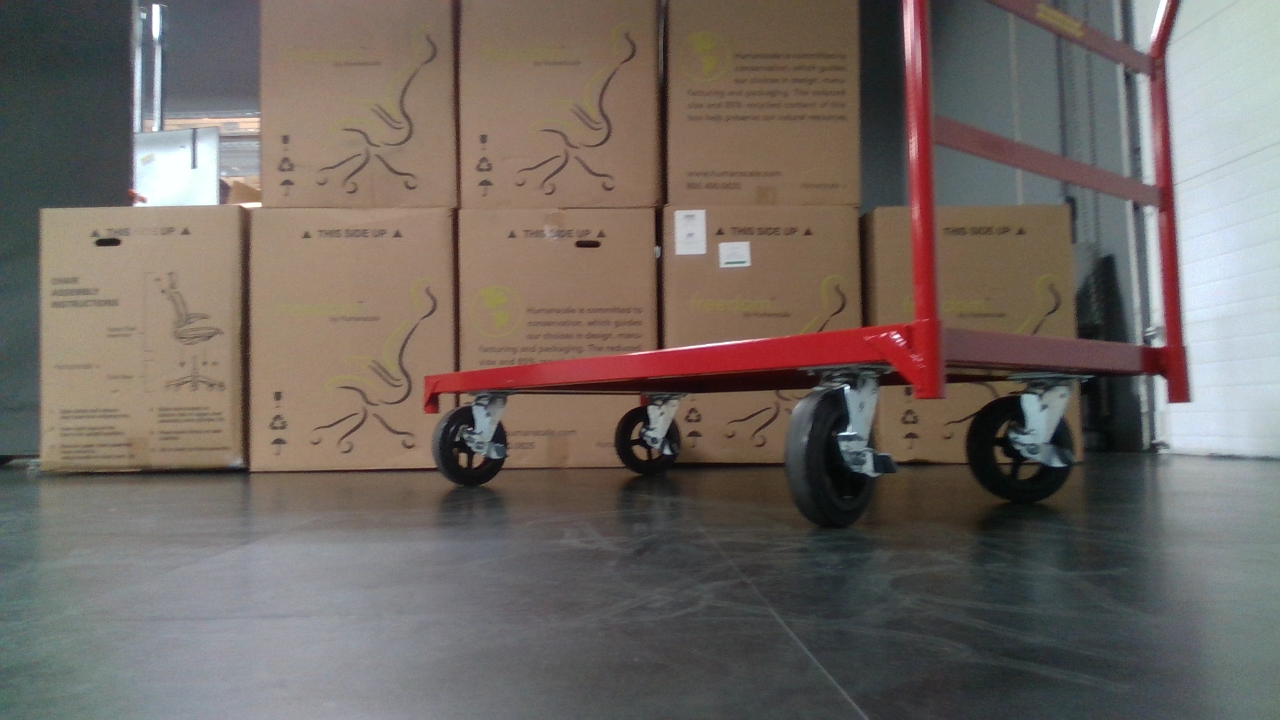Dolly: (422, 0, 1193, 529)
Wheel: (775, 374, 893, 526), (969, 373, 1079, 496), (431, 399, 511, 483), (614, 393, 684, 473)
